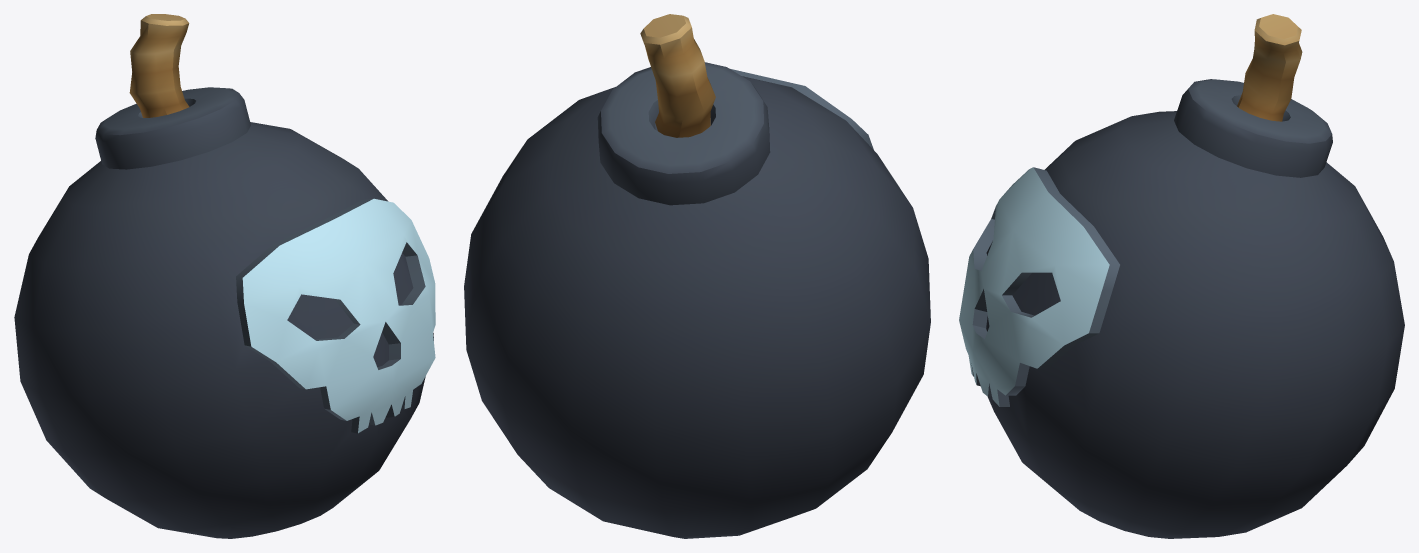
Rendered from Bomb.fbx.
The picture shows the model from 3 angles, left to right: view 1: azimuth 30°, elevation 25°; view 2: azimuth 150°, elevation 25°; view 3: azimuth 270°, elevation 25°; orthographic projection. The views are drawn at different scales.
Parts seen in each view (by area): view 1: Bomb; view 2: Bomb; view 3: Bomb.
Boxes of the visible parts, x1=… form: Bomb: x1=14, y1=14, x2=435, y2=538; Bomb: x1=464, y1=14, x2=930, y2=538; Bomb: x1=959, y1=14, x2=1404, y2=538.
Size of the model in its own units: 1.07 by 1.35 by 1.11.
